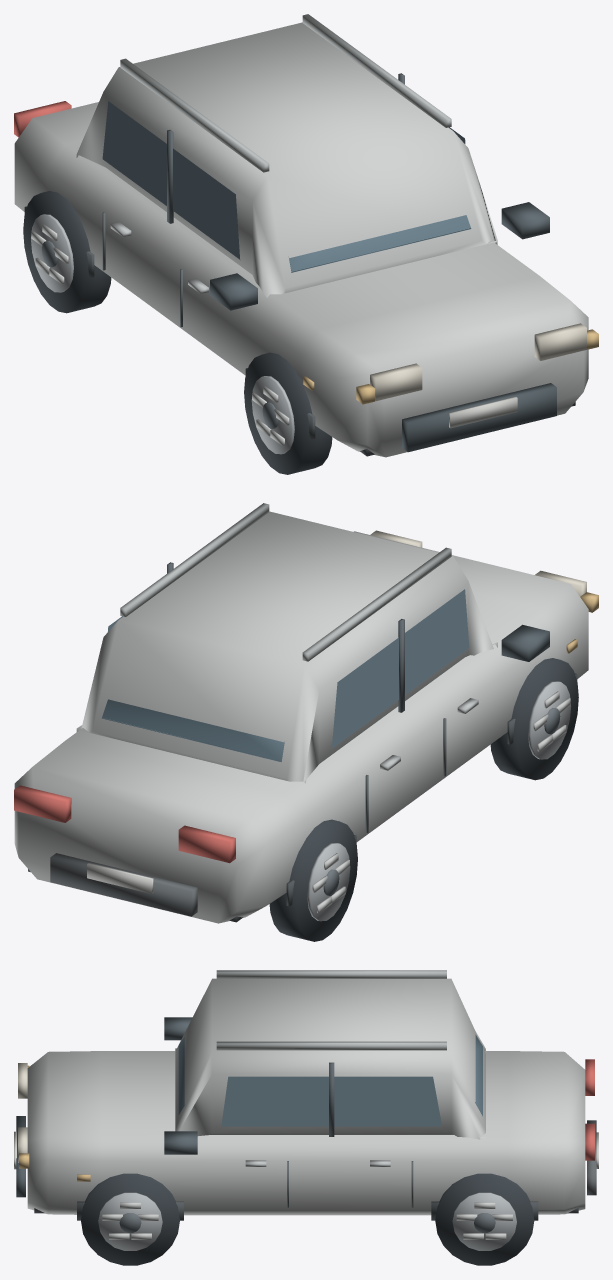
File: suv.glb
3 renders of one model, top to bottom at view 1: azimuth 30°, elevation 25°; view 2: azimuth 150°, elevation 25°; view 3: azimuth 270°, elevation 25°, orthographic. The views are drawn at different scales.
Parts seen in each view (by area): view 1: paint, glass, trim, wheel_1_L, wheel_0_L, headlights, metal, taillights, indicators; view 2: paint, glass, wheel_0_L, wheel_1_L, trim, taillights, metal, headlights; view 3: paint, glass, wheel_0_R, wheel_1_R, trim, taillights, headlights, metal.
Part boxes in pixels (x1,y1,x2,y2): paint: (14, 14, 588, 457); glass: (102, 101, 471, 272); trim: (24, 73, 575, 456); wheel_1_L: (244, 352, 332, 474); wheel_0_L: (23, 191, 111, 313); headlights: (370, 323, 586, 401); metal: (110, 221, 517, 428); taillights: (14, 101, 71, 137); indicators: (303, 329, 598, 404); paint: (14, 503, 588, 923); glass: (102, 589, 469, 762); wheel_0_L: (269, 819, 357, 941); wheel_1_L: (490, 658, 578, 780); trim: (28, 562, 577, 922); taillights: (14, 785, 235, 863); metal: (87, 698, 478, 893); headlights: (370, 530, 586, 596); paint: (27, 970, 585, 1215); glass: (178, 1035, 482, 1126); wheel_0_R: (435, 1173, 534, 1265); wheel_1_R: (81, 1173, 179, 1265); trim: (16, 1017, 596, 1220); taillights: (585, 1059, 594, 1160); headlights: (18, 1063, 27, 1162); metal: (14, 1131, 598, 1169).
Bounding box in the file's own units: 2.57 × 1.97 × 5.09.
